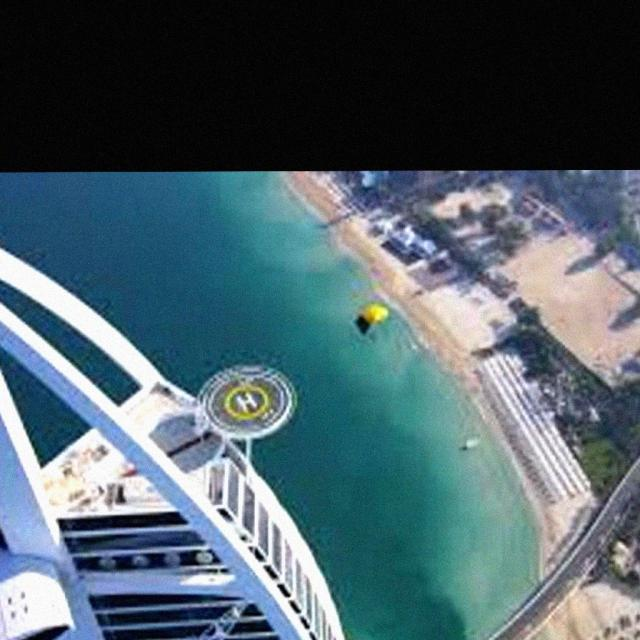helipad: (221, 380, 271, 422)
